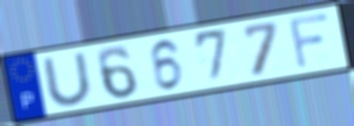6: (94, 44, 140, 102), (148, 38, 186, 91)
7: (242, 19, 282, 79), (192, 26, 231, 85)
F: (287, 11, 332, 72)
U: (39, 50, 96, 108)
